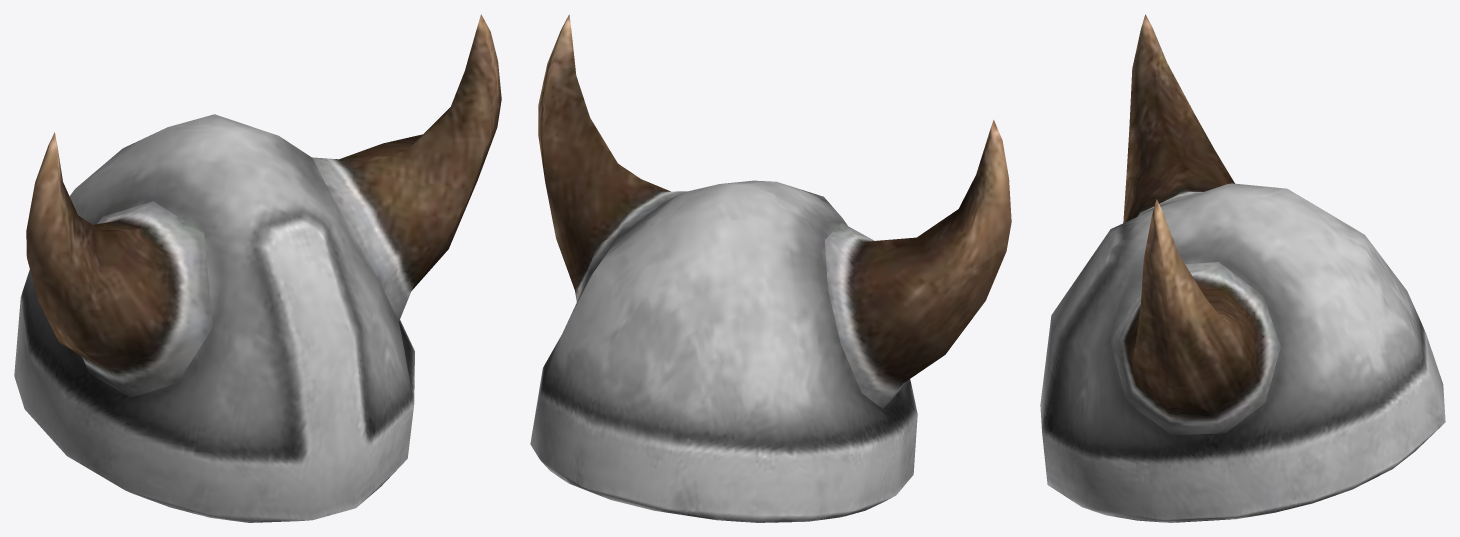
Rendered from helm-heavyinfantry.glb.
3 renders of one model, left to right at view 1: azimuth 30°, elevation 25°; view 2: azimuth 150°, elevation 25°; view 3: azimuth 270°, elevation 25°, orthographic. The views are drawn at different scales.
Bounding box in the file's own units: 0.3543 × 0.2895 × 0.2835.
1 material, 1 textured.
